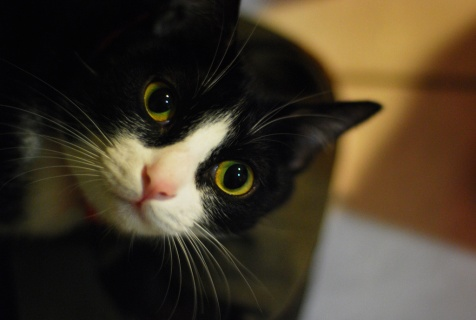Cat: (0, 0, 386, 319)
